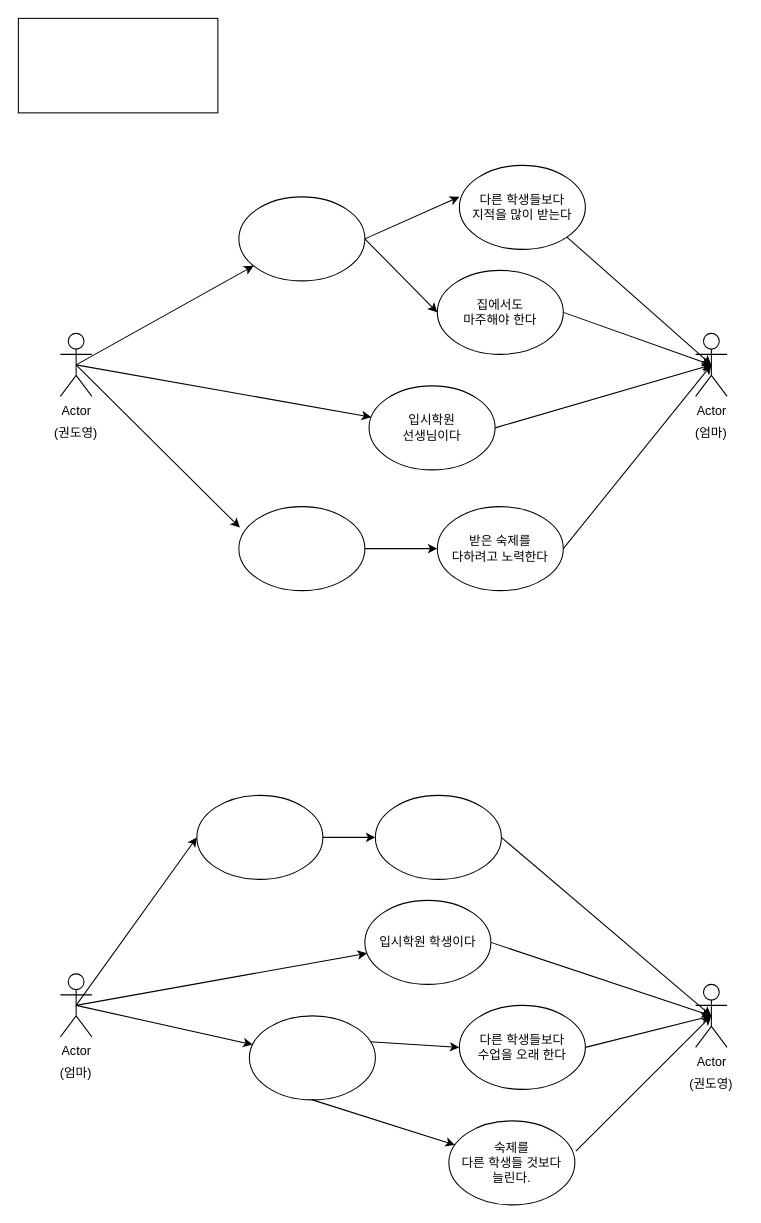
This 761x1223 diagram has some shape labels left out. Each missing label, with the box of its shape:
나의 엄마다: (238, 196, 365, 281)
셋째 딸이다: (196, 794, 323, 879)
입시보다 당장의 숙제가 걱정이다: (238, 506, 365, 591)
입시에 실패할까봐 걱정한다: (248, 1015, 375, 1100)
주제 : 고등학교 입시 중의 엄마와 나의 관계: (17, 17, 218, 113)
집에서 마주할 때 걱정이 끊이지 않는다: (374, 794, 501, 879)
